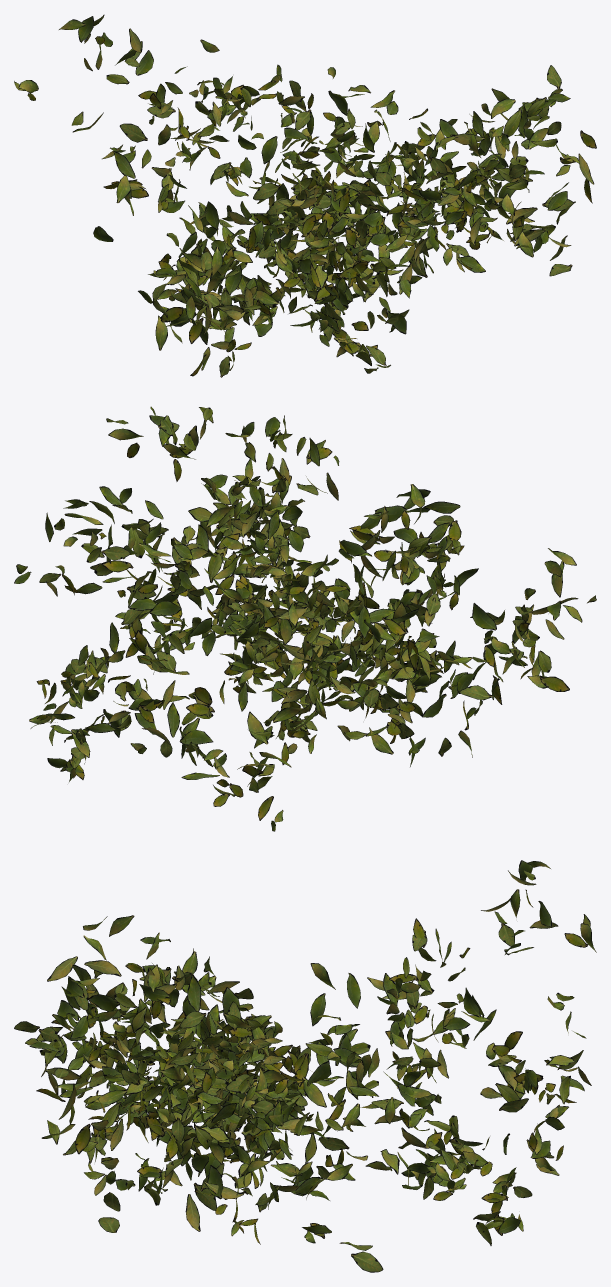
Rendered from island_tree_02_leaf.glb.
3 renders of one model, top to bottom at view 1: azimuth 30°, elevation 25°; view 2: azimuth 150°, elevation 25°; view 3: azimuth 270°, elevation 25°, orthographic. The views are drawn at different scales.
Parts seen in each view (by area): view 1: island_tree_02_LOD0; view 2: island_tree_02_LOD0; view 3: island_tree_02_LOD0.
Boxes of the visible parts, bbox=[...] form: island_tree_02_LOD0: bbox=[14, 14, 596, 377]; island_tree_02_LOD0: bbox=[14, 406, 596, 831]; island_tree_02_LOD0: bbox=[14, 860, 596, 1272].
Bounding box in the file's own units: 3.81 × 2.17 × 3.92.
Materials: 1 (1 with a texture image).
